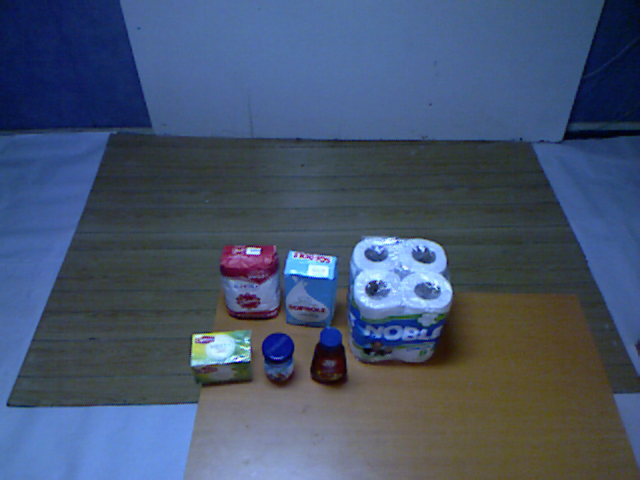confort: (338, 232, 457, 369)
crema: (257, 329, 301, 389)
harina: (217, 241, 283, 322)
ketchup: (308, 327, 352, 392)
leche: (279, 246, 340, 330)
te: (187, 326, 257, 388)
